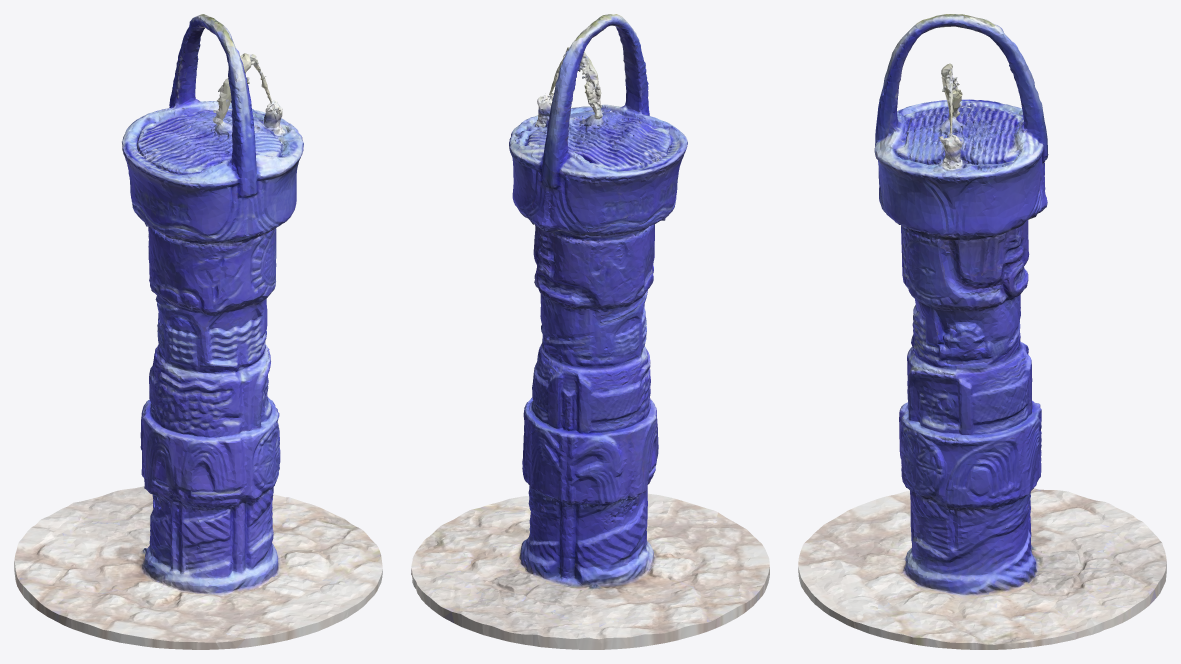
3 renders of one model, left to right at view 1: azimuth 30°, elevation 25°; view 2: azimuth 150°, elevation 25°; view 3: azimuth 270°, elevation 25°, orthographic. The views are drawn at different scales.
Visible parts, largest first — view 1: 512.25k; view 2: 512.25k; view 3: 512.25k.
Part boxes in pixels (x1,y1,x2,y2): 512.25k: [14, 14, 382, 649]; 512.25k: [411, 14, 769, 649]; 512.25k: [798, 14, 1166, 649].
Size of the model in its own units: 2.41 by 4.04 by 2.41.
Materials: 1 (1 with a texture image).
